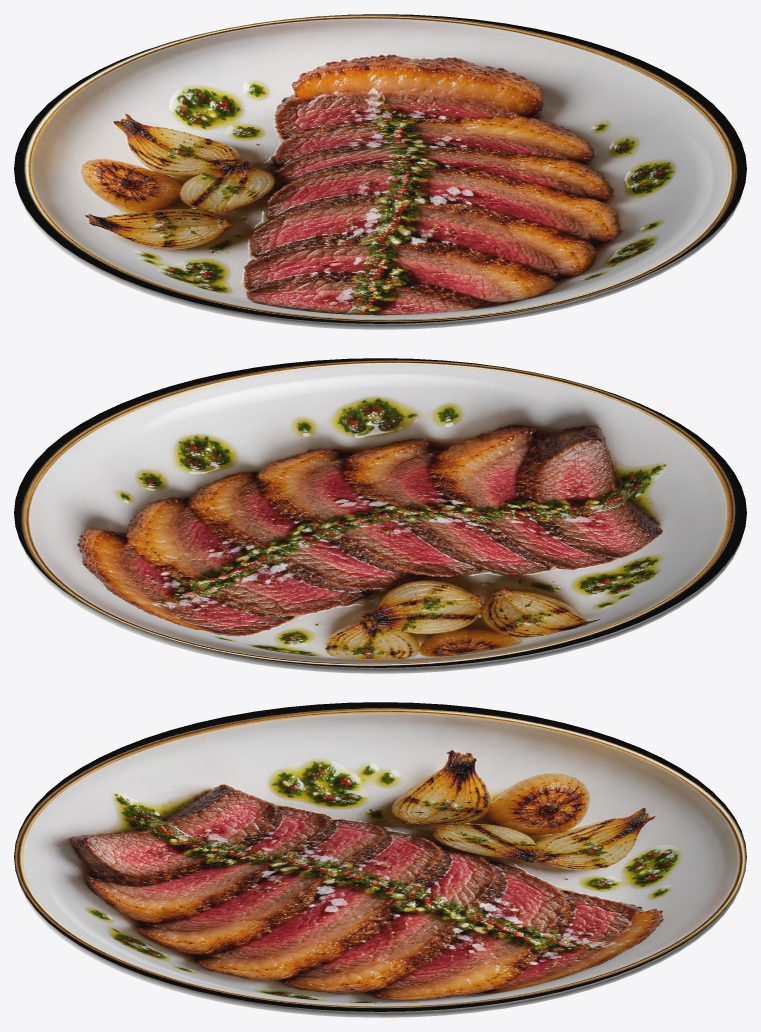
Rendered from picanha.glb.
3 views of the same model, one above another, from view 1: azimuth 30°, elevation 25°; view 2: azimuth 150°, elevation 25°; view 3: azimuth 270°, elevation 25° (orthographic).
Parts seen in each view (by area): view 1: dish; view 2: dish; view 3: dish.
Boxes of the visible parts, x1,y1,x2,y2 form: dish: (14, 14, 746, 329); dish: (14, 358, 746, 673); dish: (14, 702, 746, 1017).
Bounding box in the file's own units: 0.3 × 0.025 × 0.3.
2 materials, 1 textured.
